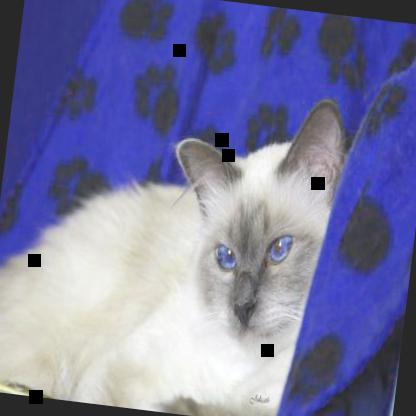cat: (0, 58, 353, 415)
